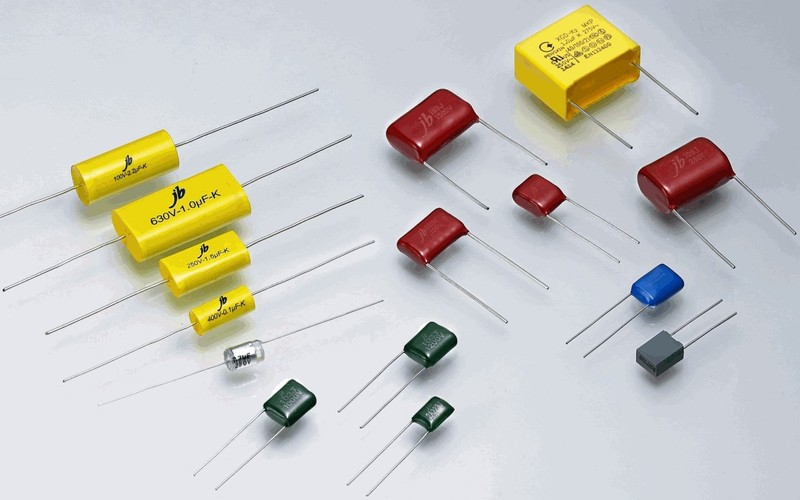Capacitor: (34, 64, 338, 369), (361, 60, 645, 321), (239, 301, 494, 500), (507, 4, 728, 147), (556, 248, 754, 397), (630, 124, 800, 267)
